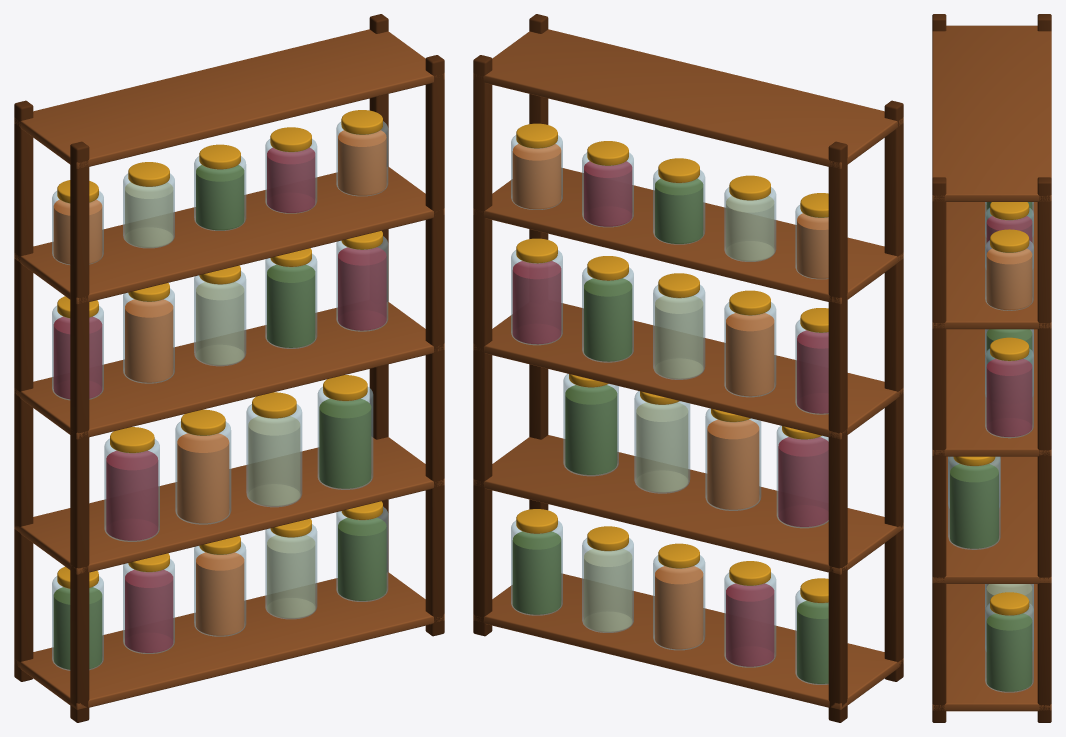
Rendered from cellar_shelf.glb.
3 views of the same model, side by side, from view 1: azimuth 30°, elevation 25°; view 2: azimuth 150°, elevation 25°; view 3: azimuth 270°, elevation 25° (orthographic). The views are drawn at different scales.
Visible parts, largest first — view 1: cellar_shelf, cellar_shelf_jars; view 2: cellar_shelf, cellar_shelf_jars; view 3: cellar_shelf, cellar_shelf_jars.
Boxes of the visible parts, x1,y1,x2,y2 form: cellar_shelf: (14,14,444,722); cellar_shelf_jars: (104,375,373,541); cellar_shelf: (473,14,903,722); cellar_shelf_jars: (563,374,828,528); cellar_shelf: (932,14,1051,722); cellar_shelf_jars: (948,456,1000,549).
Bounding box in the file's own units: 1.14 × 1.7 × 0.34.
